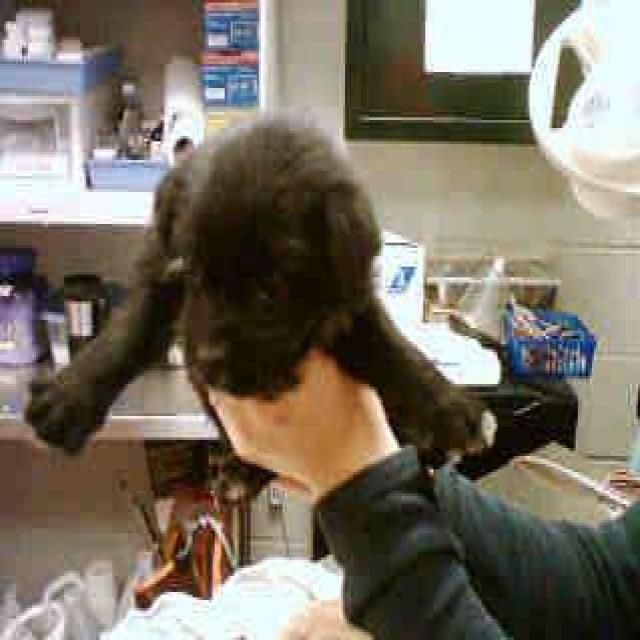cat: (17, 108, 545, 496)
